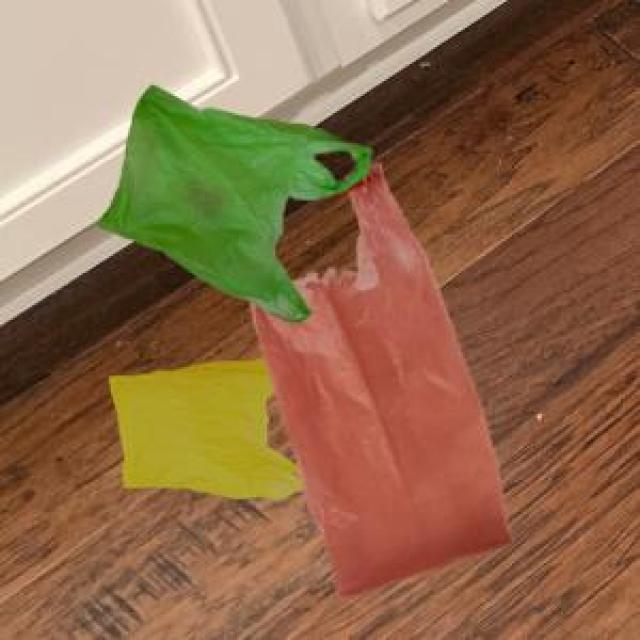waste: (101, 86, 509, 593), (110, 361, 302, 498)
